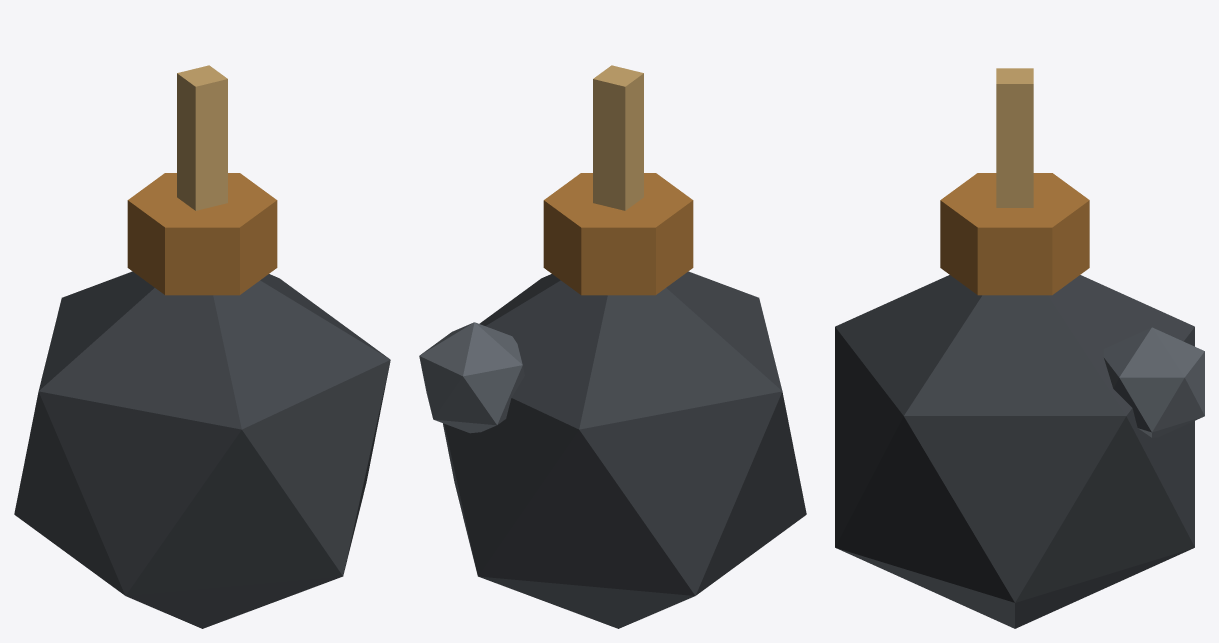
The model's file is WP_Bomb.fbx.
3 views of the same model, side by side, from view 1: azimuth 30°, elevation 25°; view 2: azimuth 150°, elevation 25°; view 3: azimuth 270°, elevation 25° (orthographic).
Visible parts, largest first — view 1: WP_Bomb_Mesh; view 2: WP_Bomb_Mesh; view 3: WP_Bomb_Mesh.
Part boxes in pixels (x1=…): WP_Bomb_Mesh: x1=14, y1=65, x2=390, y2=628; WP_Bomb_Mesh: x1=419, y1=65, x2=806, y2=628; WP_Bomb_Mesh: x1=835, y1=68, x2=1204, y2=628.
Bounding box in the file's own units: 0.3041 × 0.2971 × 0.545.
